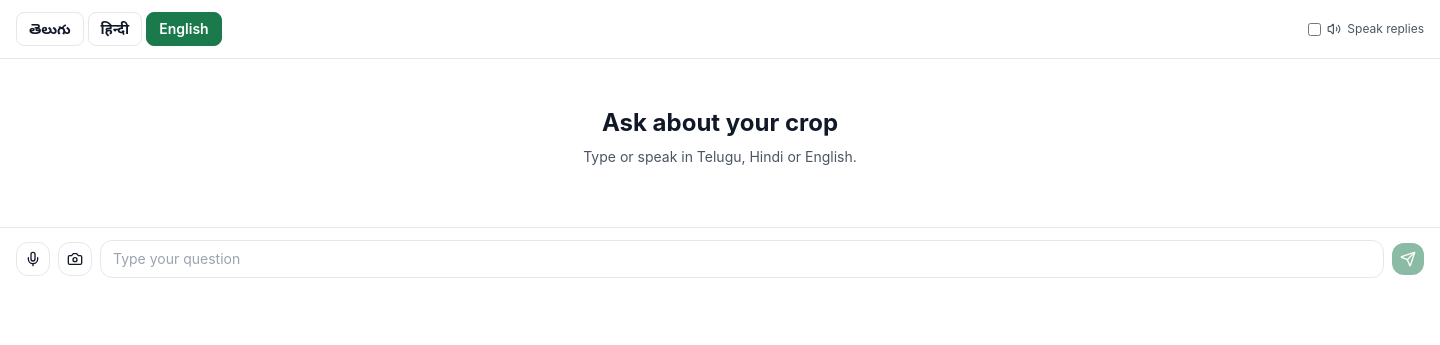
FarmerChat › labels an unverified translation and a pending review
Type "question" into the field.
click(742, 259); type("question")  # box [100,240,1384,278]
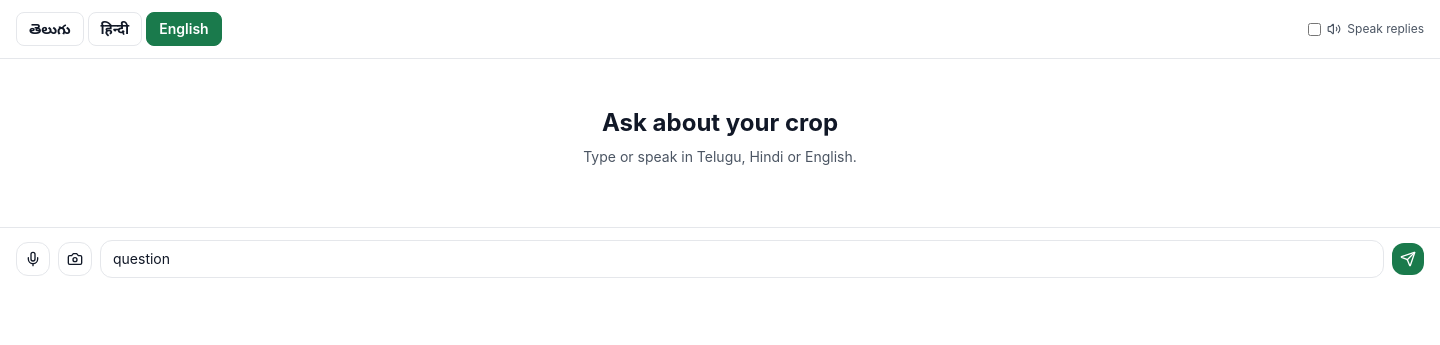
Submit the form, box [0,227,1439,290]
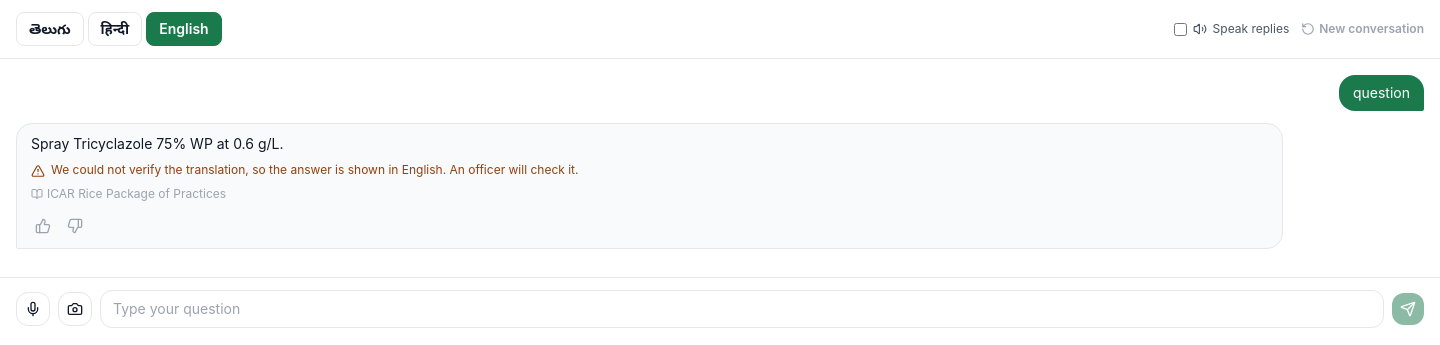
Now the text "could not verify the translation" is shown, box [51,162,578,177]
